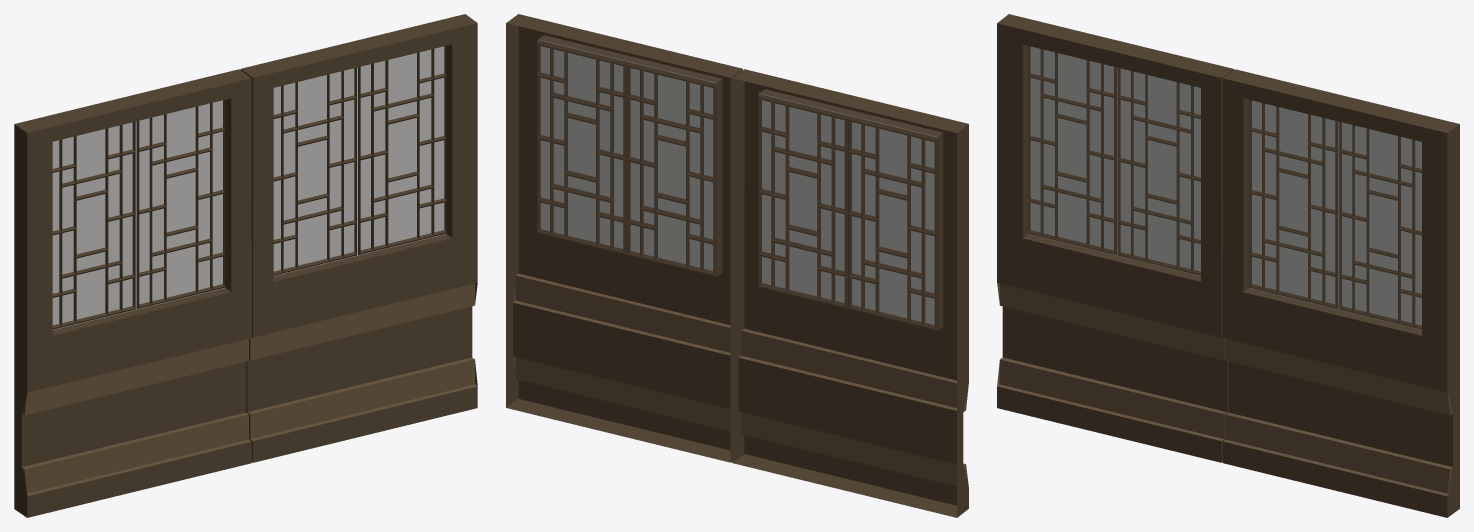
The model's file is SM_Env_Door_10.fbx.
3 renders of one model, left to right at view 1: azimuth 30°, elevation 25°; view 2: azimuth 150°, elevation 25°; view 3: azimuth 330°, elevation 25°, orthographic.
Parts seen in each view (by area): view 1: SM_Env_Door_10; view 2: SM_Env_Door_10; view 3: SM_Env_Door_10.
Boxes of the visible parts, left/top/right/bottom form: SM_Env_Door_10: left=14, top=14, right=477, bottom=517; SM_Env_Door_10: left=506, top=14, right=968, bottom=517; SM_Env_Door_10: left=997, top=14, right=1459, bottom=517.
Bounding box in the file's own units: 178 × 145 × 8.49.
Materials: 1 (1 with a texture image).
